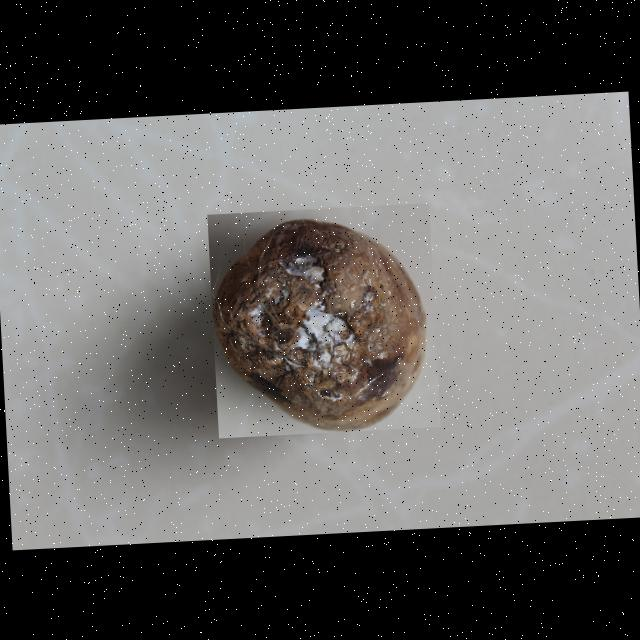Diseased-fungal potato: (206, 202, 439, 438)
